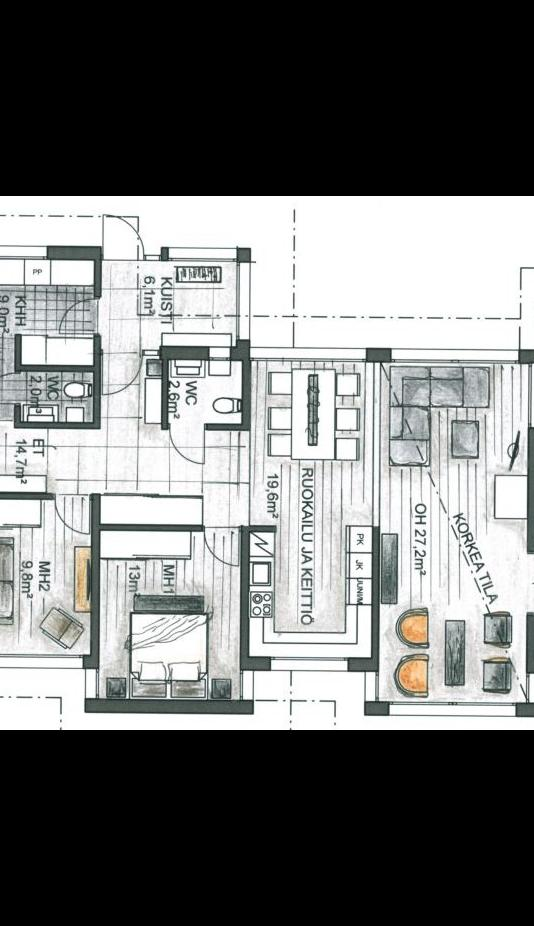bathroom: (162, 360, 243, 428), (18, 368, 96, 422)
door: (96, 347, 144, 397), (100, 214, 144, 264), (51, 490, 95, 539), (198, 524, 243, 569), (55, 296, 99, 338), (164, 424, 206, 466), (525, 581, 534, 616), (525, 552, 534, 583)
perimeter: (0, 247, 534, 716)
window: (381, 347, 523, 365), (239, 344, 370, 363), (381, 703, 519, 718), (235, 256, 256, 347), (264, 655, 352, 674), (162, 245, 243, 264), (0, 653, 88, 670), (0, 240, 53, 259), (239, 666, 256, 706), (526, 356, 534, 437), (84, 659, 98, 704), (524, 670, 534, 705)
